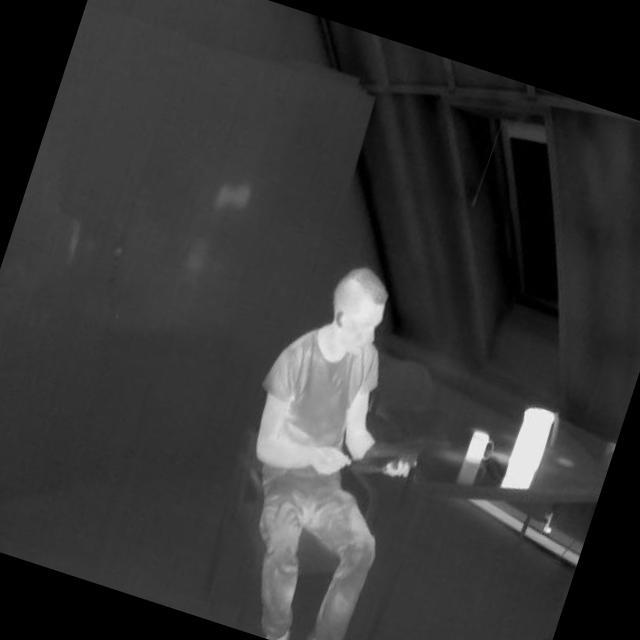person: (187, 238, 474, 640)
